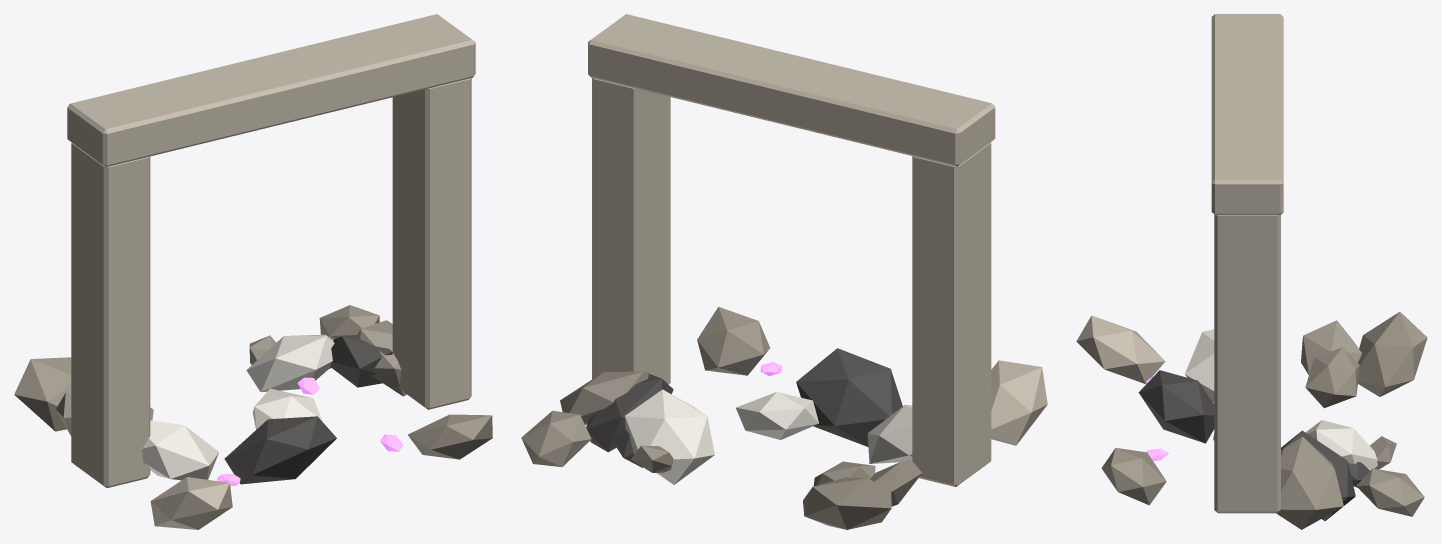
File: TC_ENV_CrackedGate_Broken_V1.gltf
3 renders of one model, left to right at view 1: azimuth 30°, elevation 25°; view 2: azimuth 150°, elevation 25°; view 3: azimuth 270°, elevation 25°, orthographic. The views are drawn at different scales.
Visible parts, largest first — view 1: TC_Gate_Lintel, TC_Gate_Jamb_-1, TC_Gate_Jamb_1, TC_GateRubble_8, TC_GateRubble_12, TC_GateRubble_5, TC_GateRubble_11, TC_GateRubble_4, TC_GateRubble_1, TC_GateRubble_13, TC_GateRubble_3, TC_GateRubble_6 (+1 smaller); view 2: TC_Gate_Lintel, TC_Gate_Jamb_-1, TC_Gate_Jamb_1, TC_GateRubble_8, TC_GateRubble_12, TC_GateRubble_11, TC_GateRubble_4, TC_GateRubble_1, TC_GateRubble_3, TC_GateRubble_10, TC_GateRubble_6, TC_GateRubble_13 (+4 smaller); view 3: TC_Gate_Jamb_1, TC_Gate_Lintel, TC_GateRubble_6, TC_GateRubble_4, TC_GateRubble_8, TC_GateRubble_11, TC_GateRubble_1, TC_GateRubble_0, TC_GateRubble_10, TC_GateRubble_12, TC_GateRubble_9, TC_GateRubble_5 (+2 smaller).
Part boxes in pixels (left/top/right/bottom): TC_Gate_Lintel: left=67, top=14, right=475, bottom=167; TC_Gate_Jamb_-1: left=71, top=143, right=150, bottom=487; TC_Gate_Jamb_1: left=392, top=78, right=471, bottom=409; TC_GateRubble_8: left=224, top=416, right=336, bottom=484; TC_GateRubble_12: left=246, top=334, right=334, bottom=391; TC_GateRubble_5: left=142, top=420, right=218, bottom=480; TC_GateRubble_11: left=150, top=477, right=232, bottom=529; TC_GateRubble_4: left=14, top=357, right=71, bottom=431; TC_GateRubble_1: left=408, top=414, right=492, bottom=459; TC_GateRubble_13: left=330, top=334, right=392, bottom=387; TC_GateRubble_3: left=252, top=388, right=322, bottom=429; TC_GateRubble_6: left=357, top=320, right=406, bottom=396; TC_Gate_Lintel: left=588, top=14, right=995, bottom=166; TC_Gate_Jamb_-1: left=912, top=142, right=991, bottom=486; TC_Gate_Jamb_1: left=592, top=78, right=670, bottom=384; TC_GateRubble_8: left=796, top=348, right=902, bottom=446; TC_GateRubble_12: left=625, top=389, right=714, bottom=484; TC_GateRubble_11: left=991, top=360, right=1047, bottom=445; TC_GateRubble_4: left=803, top=477, right=891, bottom=529; TC_GateRubble_1: left=697, top=306, right=769, bottom=375; TC_GateRubble_3: left=736, top=392, right=818, bottom=439; TC_GateRubble_10: left=521, top=410, right=591, bottom=466; TC_GateRubble_6: left=560, top=371, right=648, bottom=425; TC_GateRubble_13: left=586, top=372, right=673, bottom=452; TC_Gate_Jamb_1: left=1214, top=215, right=1280, bottom=513; TC_Gate_Lintel: left=1211, top=14, right=1283, bottom=215; TC_GateRubble_6: left=1276, top=436, right=1343, bottom=529; TC_GateRubble_4: left=1358, top=312, right=1427, bottom=396; TC_GateRubble_8: left=1138, top=370, right=1214, bottom=443; TC_GateRubble_11: left=1076, top=315, right=1165, bottom=383; TC_GateRubble_1: left=1101, top=448, right=1166, bottom=505; TC_GateRubble_0: left=1305, top=347, right=1359, bottom=408; TC_GateRubble_10: left=1356, top=468, right=1424, bottom=516; TC_GateRubble_12: left=1306, top=420, right=1377, bottom=470; TC_GateRubble_9: left=1301, top=320, right=1361, bottom=374; TC_GateRubble_5: left=1185, top=329, right=1214, bottom=403.
Bounding box in the file's own units: 3.68 × 3.52 × 3.17.
